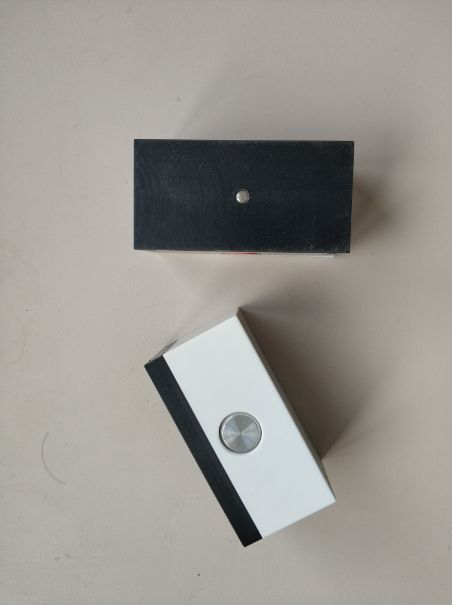black+white+silver: (139, 304, 339, 552)
